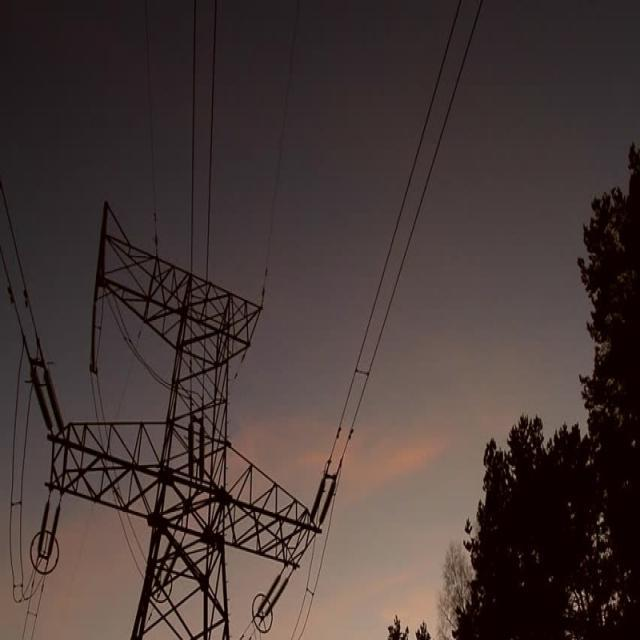non-critical vegetation: (28, 193, 334, 624)
